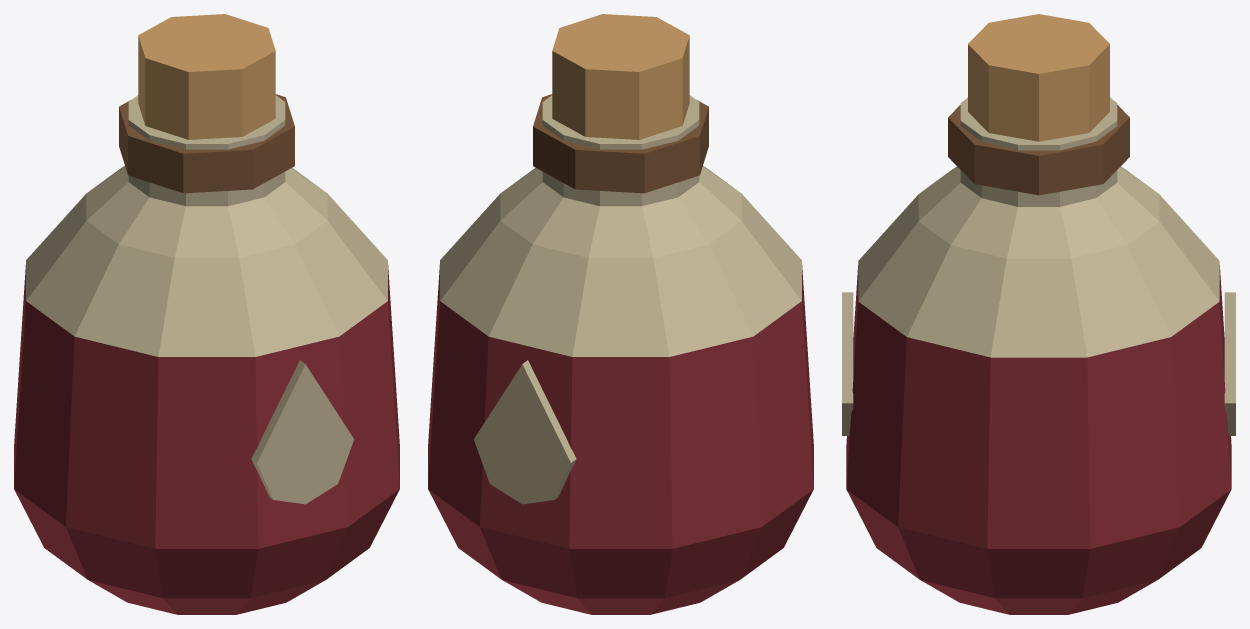
File: potion.glb
The picture shows the model from 3 angles, left to right: view 1: azimuth 30°, elevation 25°; view 2: azimuth 150°, elevation 25°; view 3: azimuth 270°, elevation 25°; orthographic projection.
Visible parts, largest first — view 1: consumable_health_potion_quality; view 2: consumable_health_potion_quality; view 3: consumable_health_potion_quality.
Part boxes in pixels (box(x1,y1,x2,y2)): consumable_health_potion_quality: box(14, 14, 399, 614); consumable_health_potion_quality: box(428, 14, 813, 614); consumable_health_potion_quality: box(842, 14, 1235, 614).
Bounding box in the file's own units: 0.3091 × 0.465 × 0.316.
